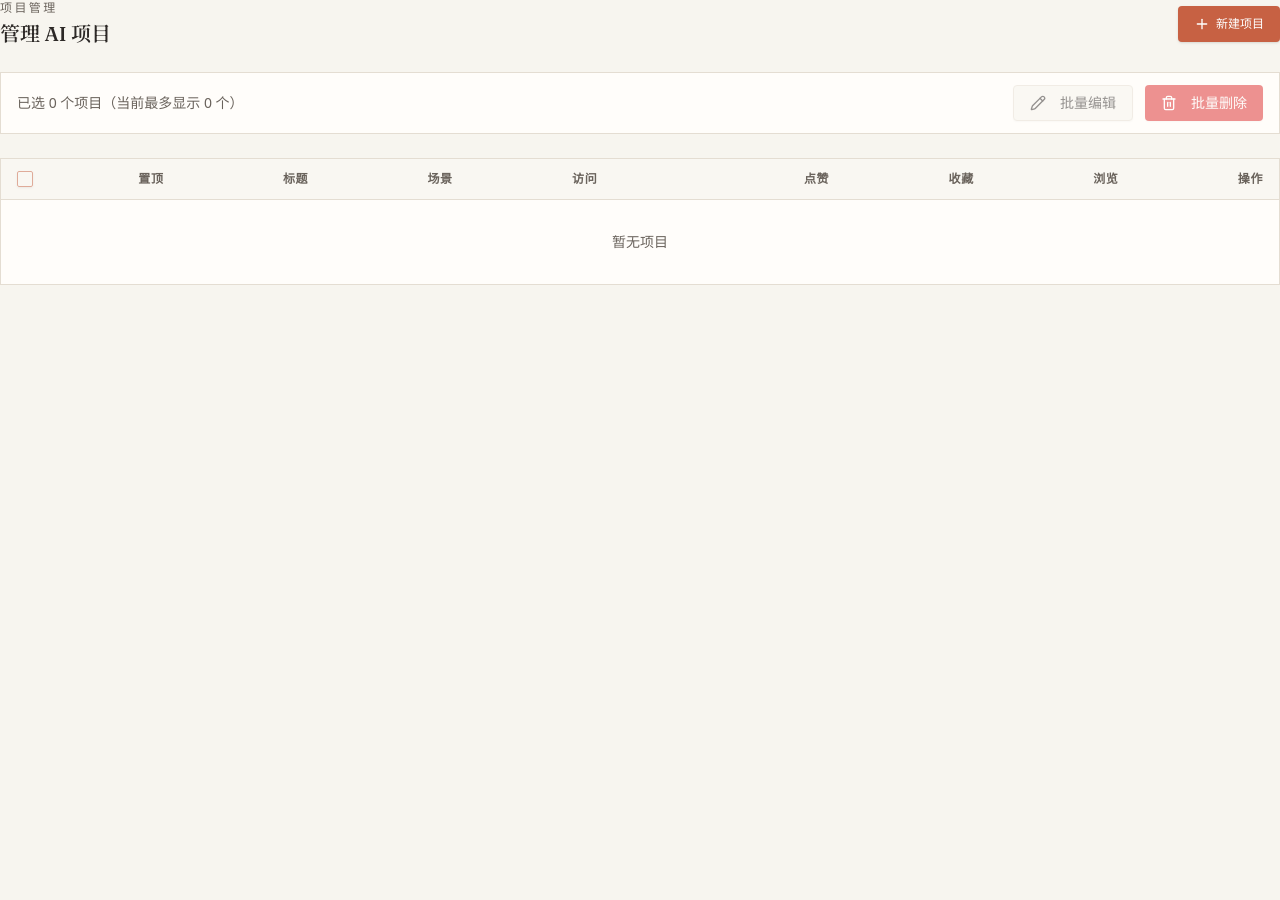
Test case: AdminProjects save › rechecks gallery readiness after the database probe reports unavailable
Click the button "新建项目". click: [1229, 24]
box: [1178, 6, 1279, 42]
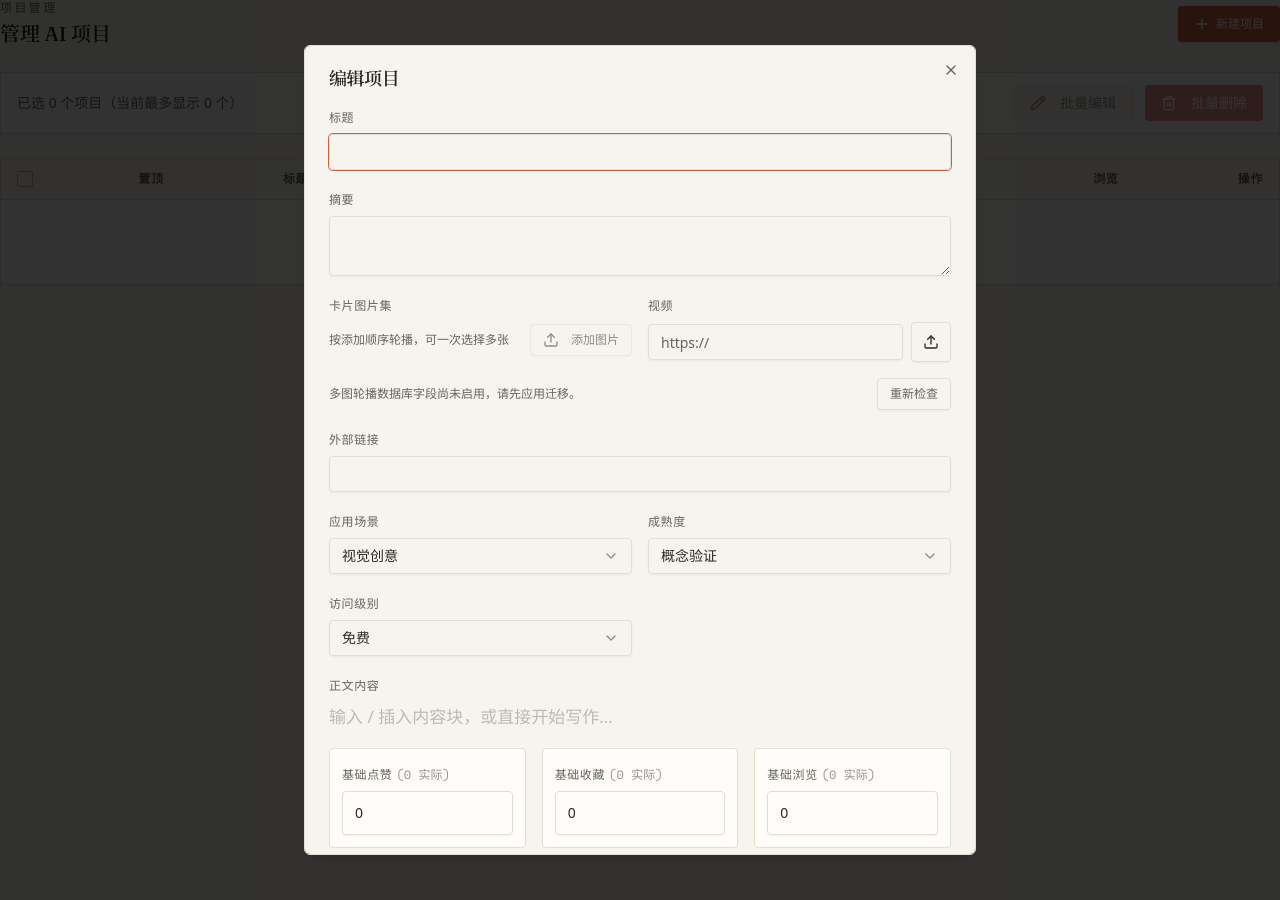
Expected: the button "添加图片" is disabled, [530, 324, 632, 356]
Click the button "重新检查". click: [914, 394]
box: [877, 378, 951, 410]
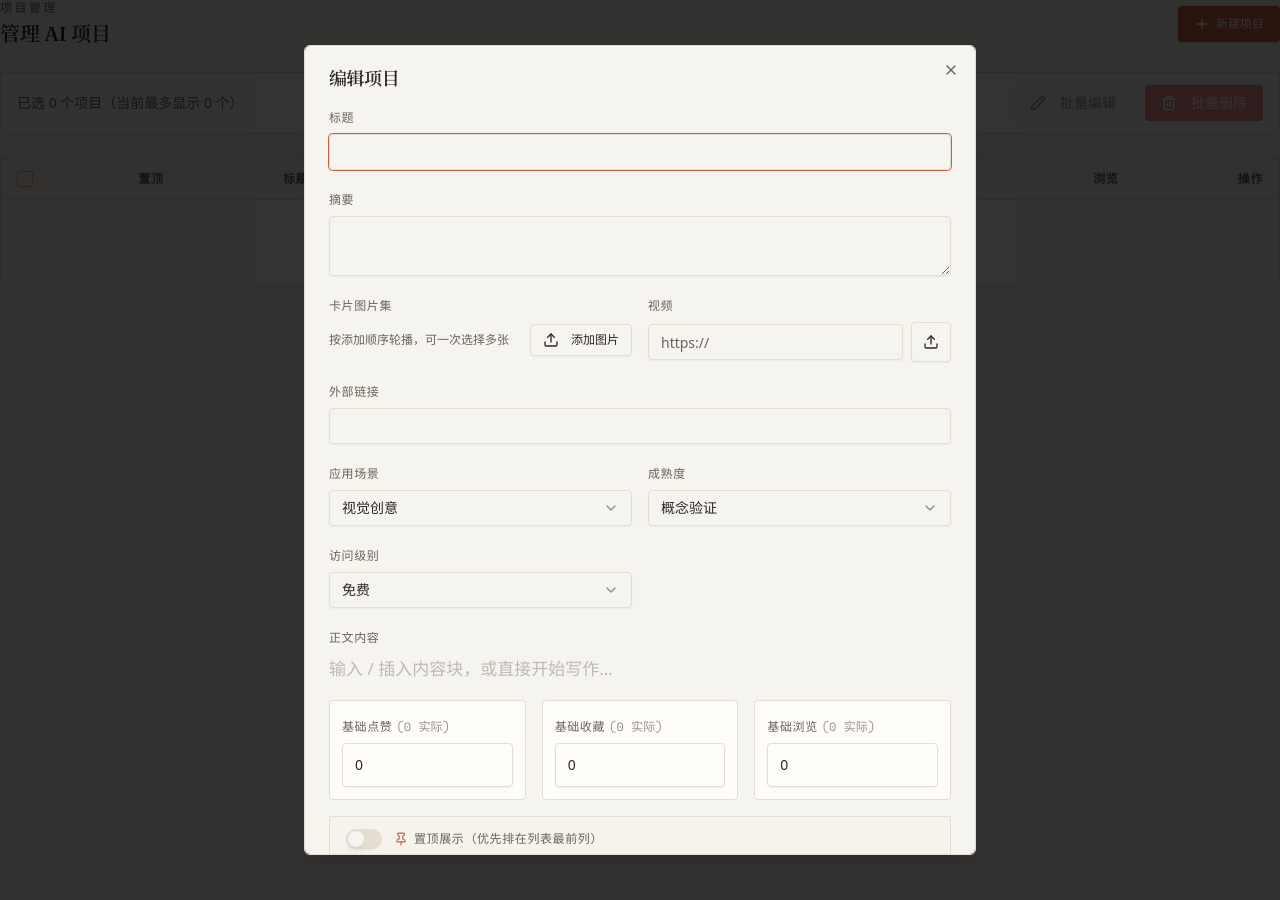
Expected: the button "添加图片" is enabled, [530, 324, 632, 356]
